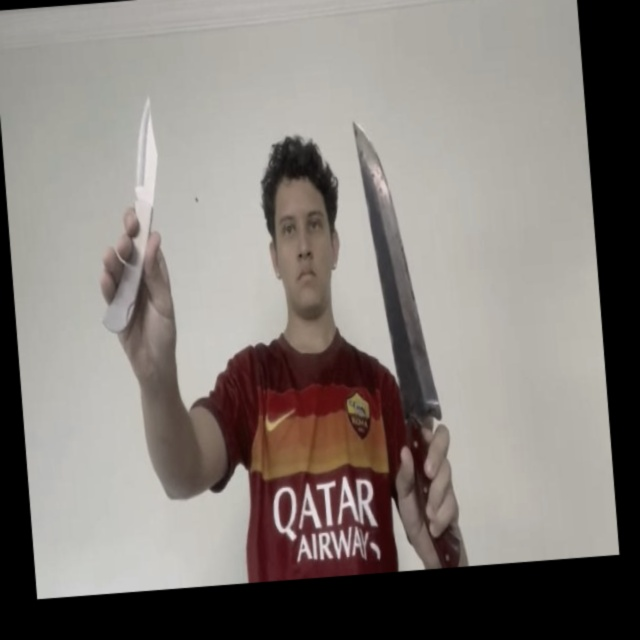Sharp-Object: (353, 115, 442, 420), (127, 94, 162, 201)
